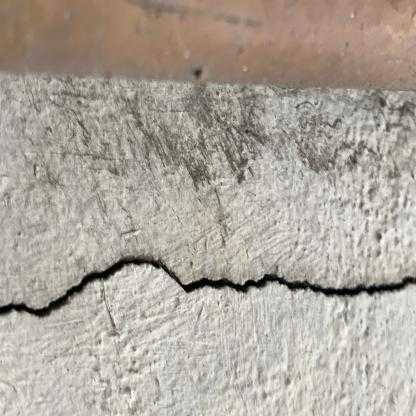crack: (0, 257, 416, 318)
